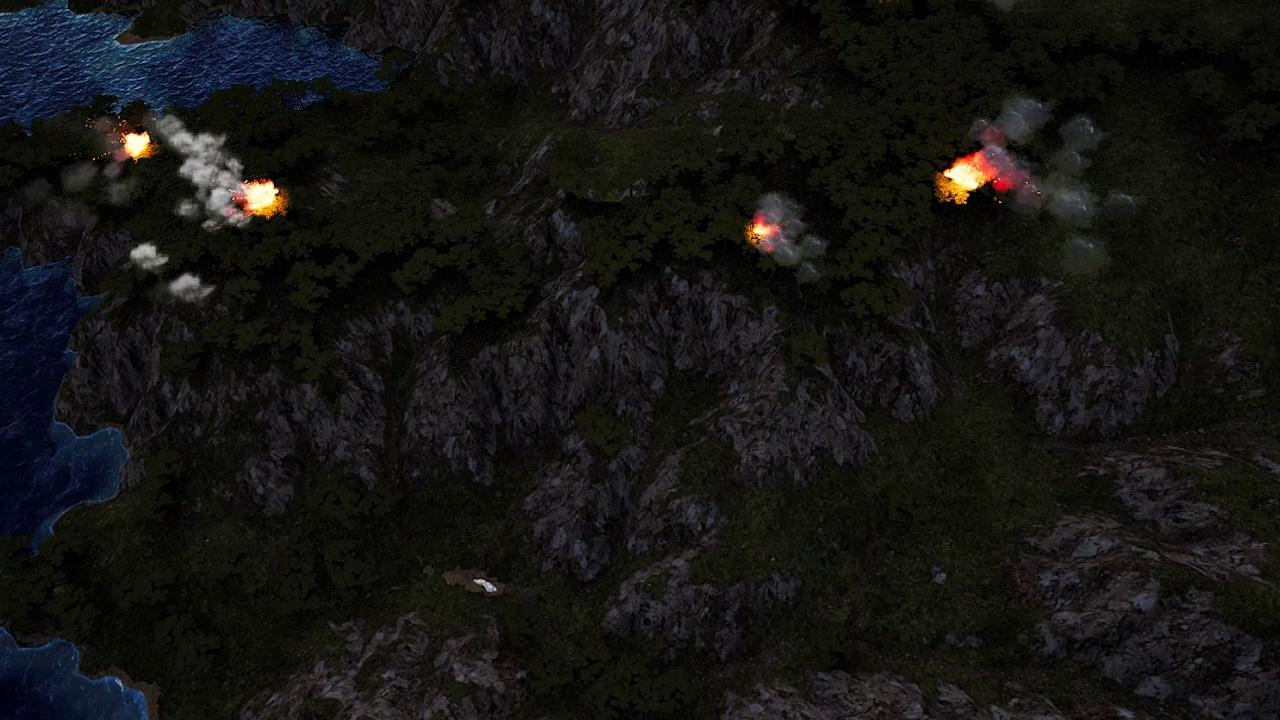fire: (939, 154, 985, 198), (244, 180, 282, 215), (124, 131, 152, 159), (749, 217, 778, 244)
smoke: (979, 96, 1141, 280), (145, 105, 244, 230), (756, 189, 837, 284), (20, 160, 132, 227), (125, 240, 216, 306)
